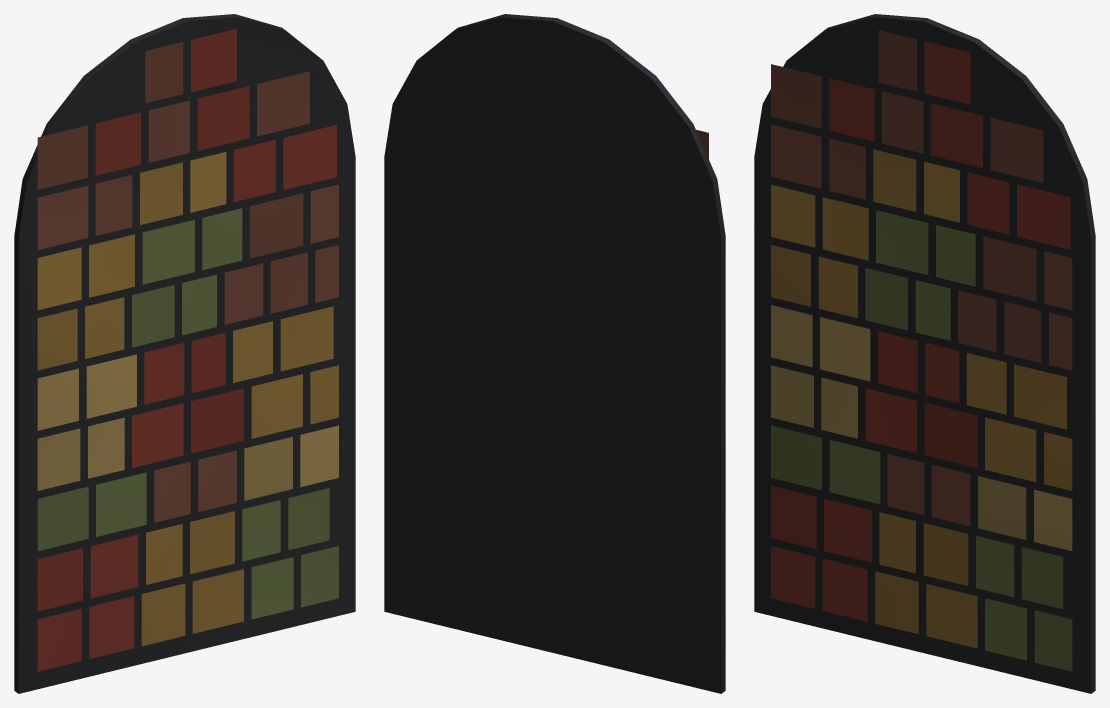
The model's file is ph_int_stained_window.glb.
3 views of the same model, side by side, from view 1: azimuth 30°, elevation 25°; view 2: azimuth 150°, elevation 25°; view 3: azimuth 330°, elevation 25° (orthographic).
Visible parts, largest first — view 1: ph_int_stained_window; view 2: ph_int_stained_window; view 3: ph_int_stained_window.
Part boxes in pixels (x1=…): ph_int_stained_window: x1=14, y1=14, x2=355, y2=693; ph_int_stained_window: x1=384, y1=14, x2=725, y2=693; ph_int_stained_window: x1=754, y1=14, x2=1095, y2=693.
Size of the model in its own units: 0.72 by 1.29 by 0.02.
